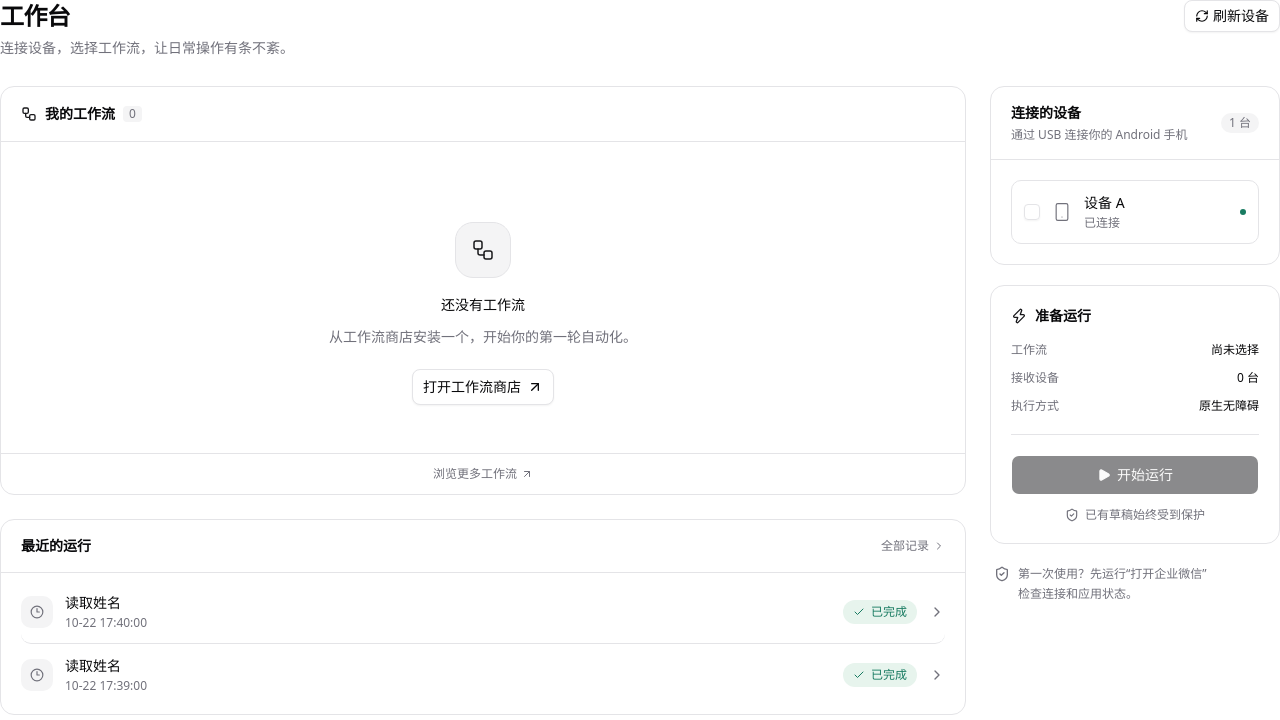
opens the selected recent record in the existing details dialog and closes it
Click the button "读取姓名 10-22 17:39:00 已完成": click(37, 675) [21, 644, 945, 694]
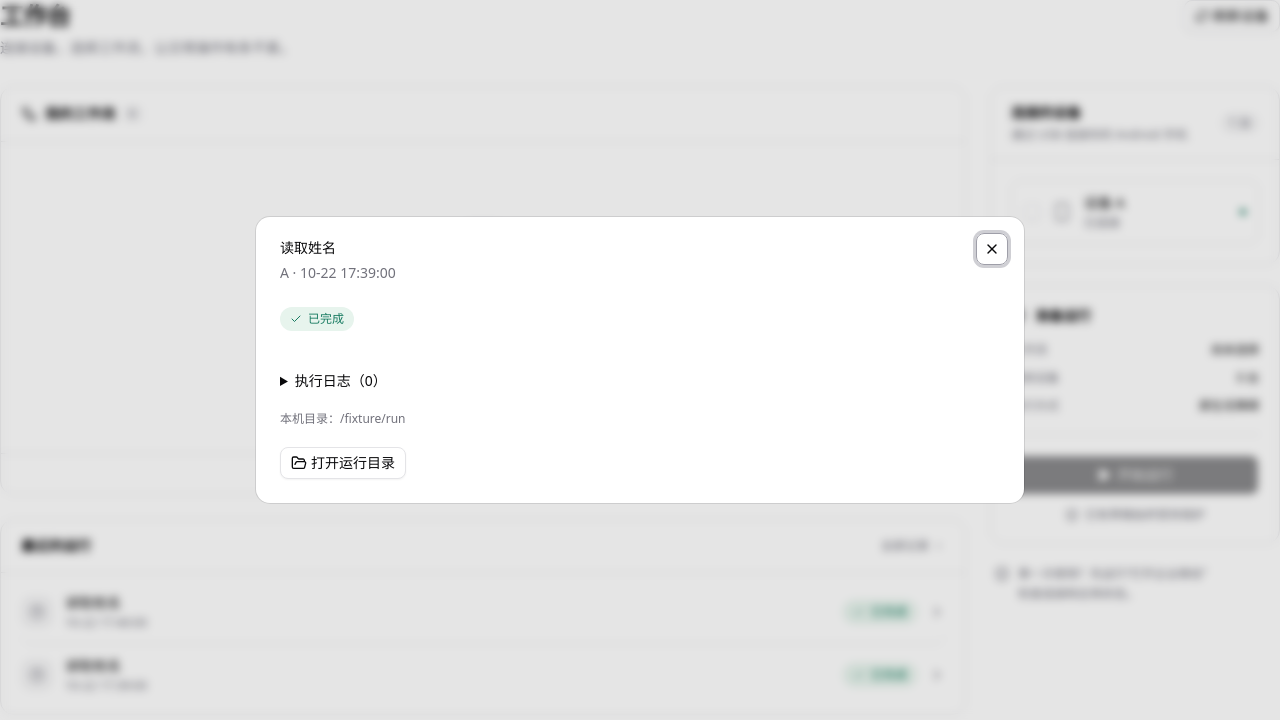
Expected: the dialog is shown, [256, 217, 1024, 503]
Click the button named "Close": click(992, 249) [976, 233, 1008, 265]
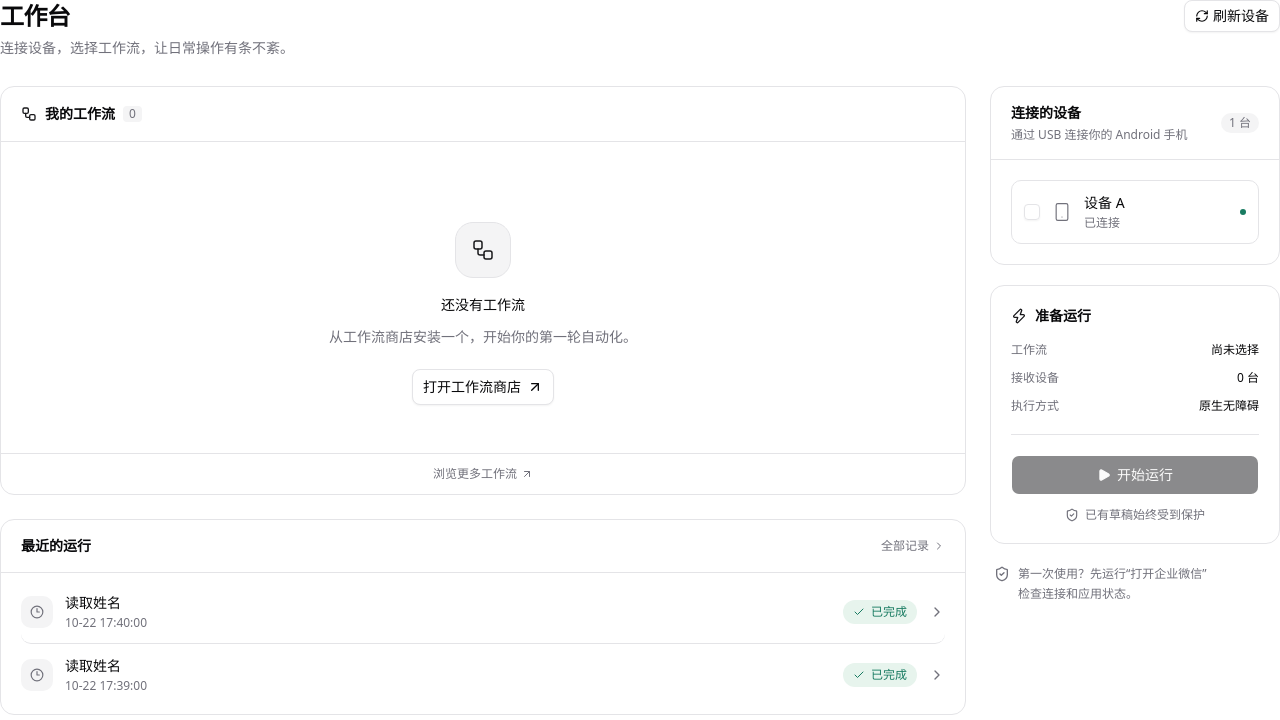
Expected: the dialog is gone
